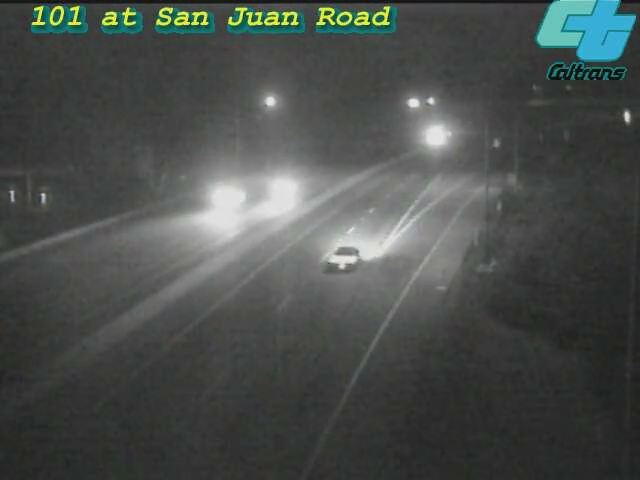vehicle: (182, 161, 262, 241), (241, 150, 321, 230), (304, 219, 384, 299), (407, 112, 457, 162)
